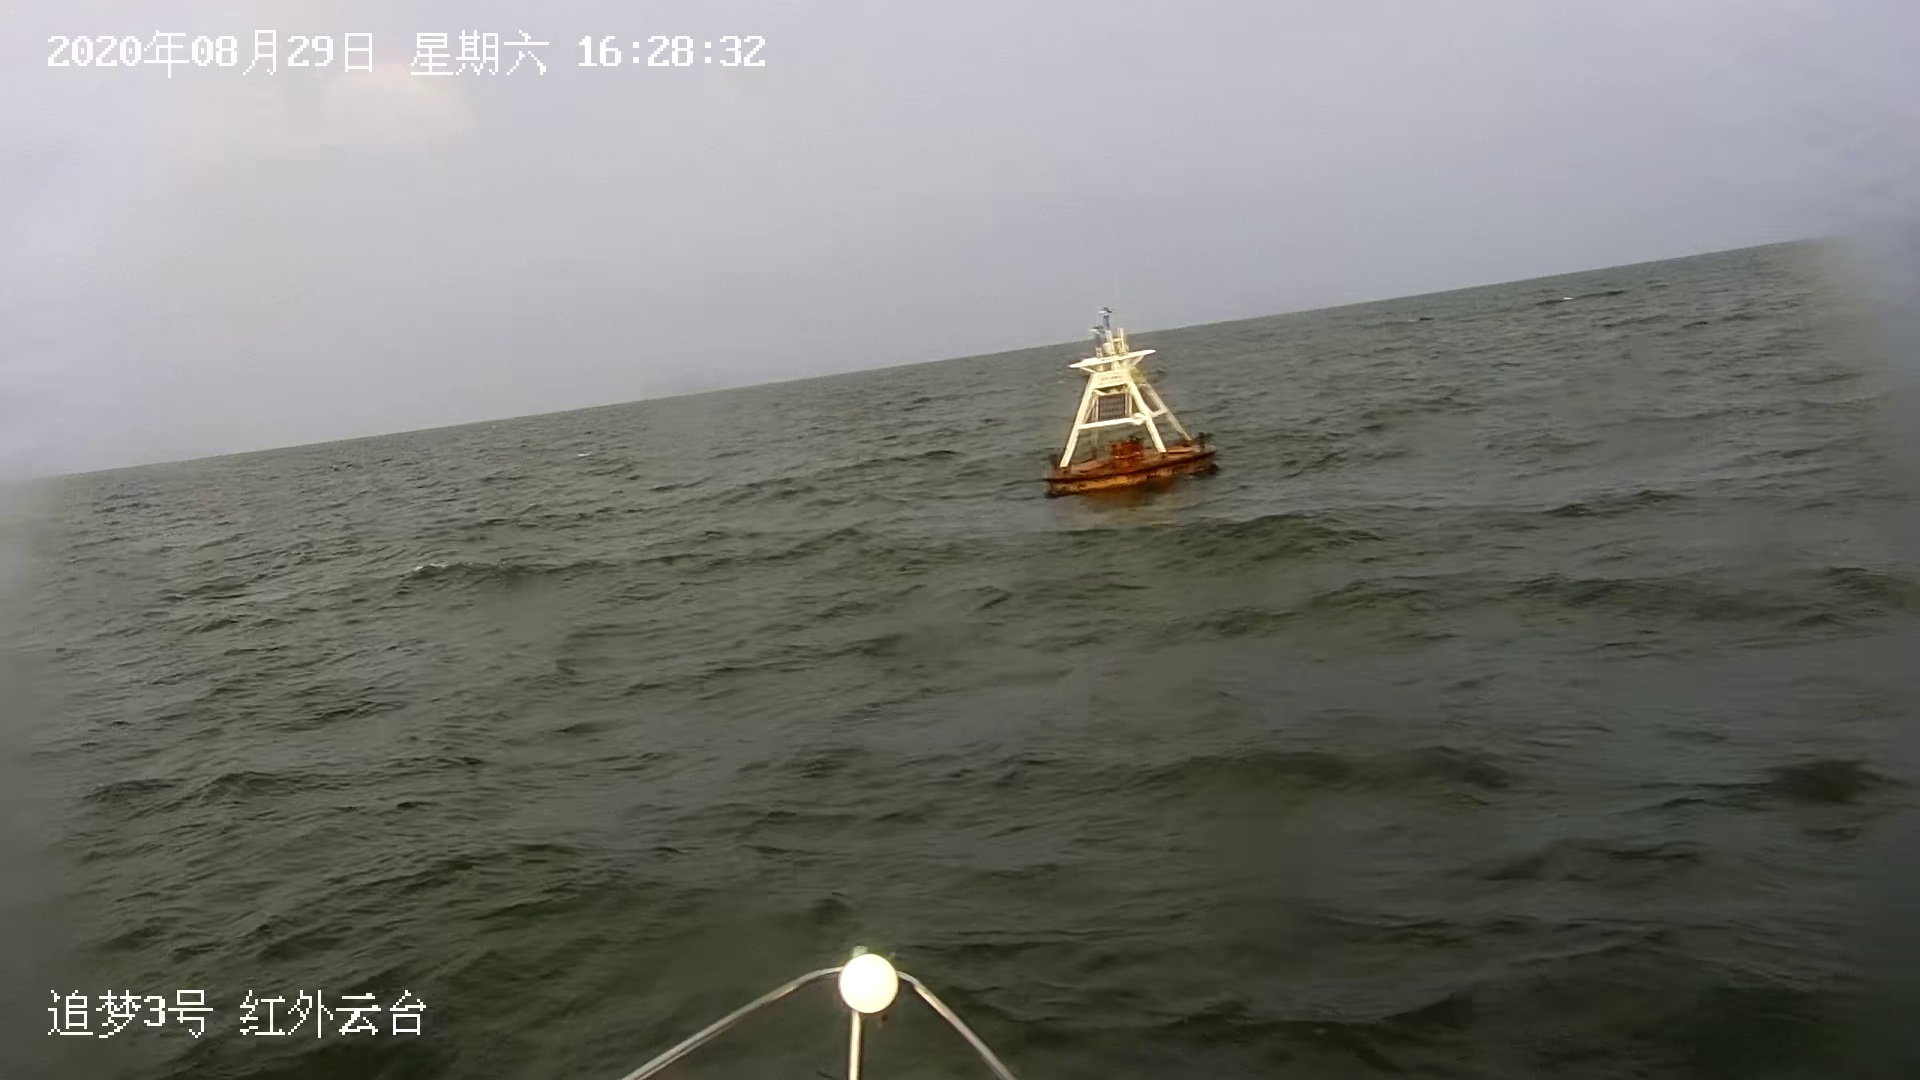barrier: (1022, 303, 1222, 500)
